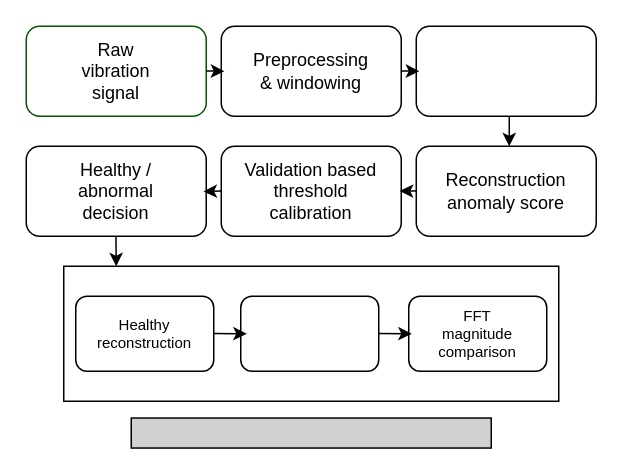
This 623x476 diagram has some shape labels left out. Each missing label, with the centre of its shape:
Evaluation: CWRU load shift, Paderborn, CPU deployment: the point at 310,432
Healthy-only ResDilatedAE: the point at 505,70
Residual waveform: the point at 309,333
